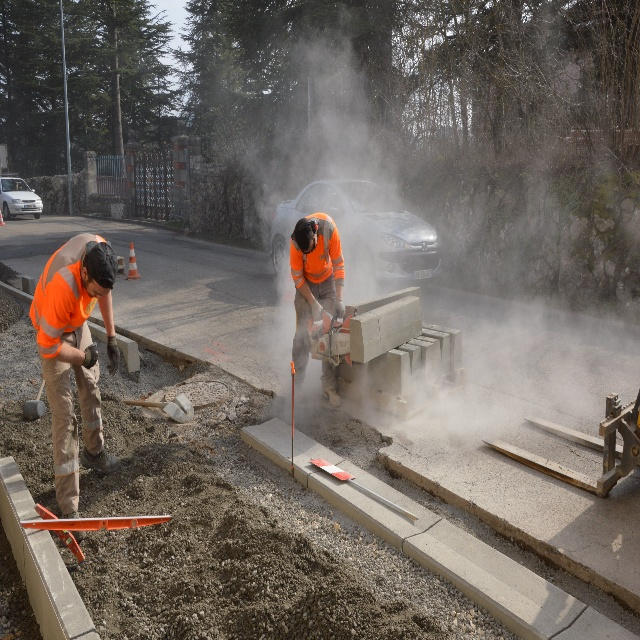Guantes: (105, 335, 121, 376), (81, 341, 99, 369), (311, 298, 325, 323), (333, 296, 346, 321)
